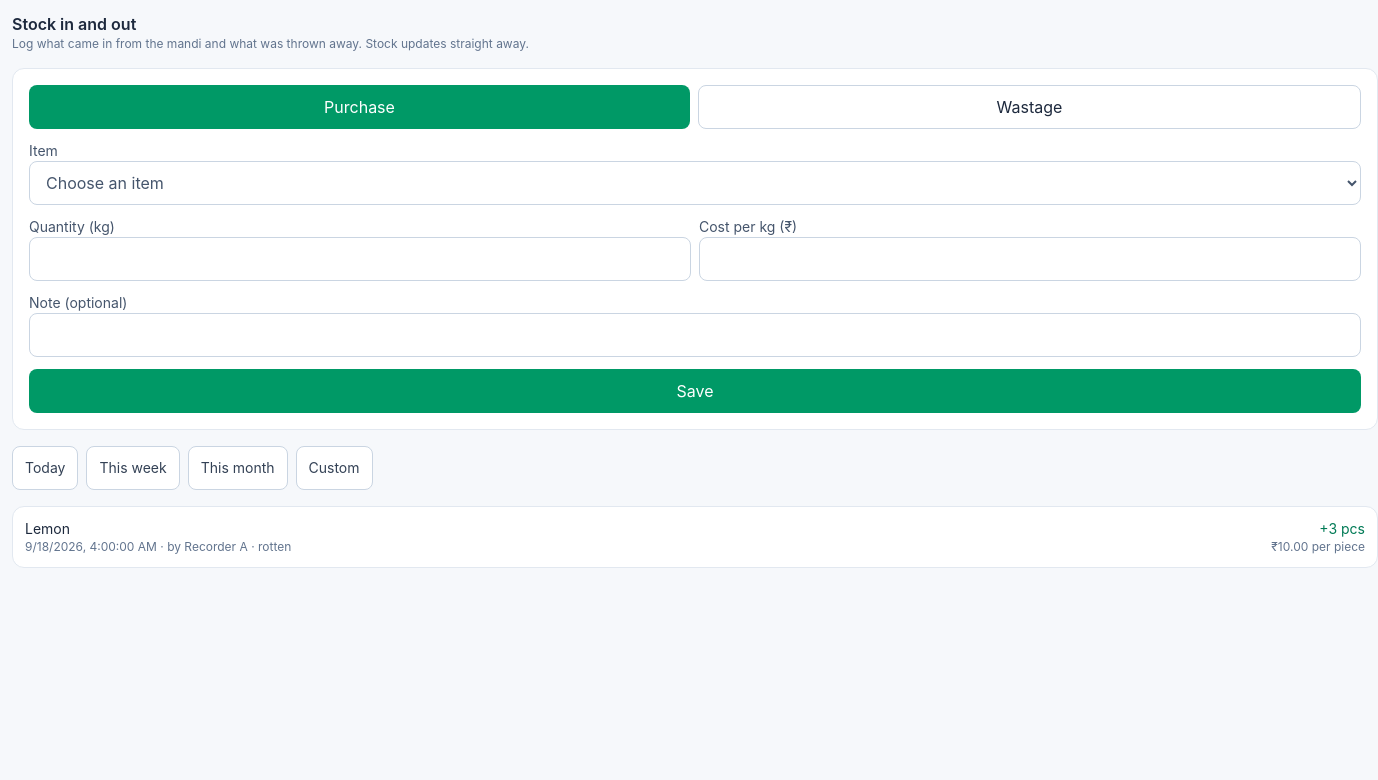
Test: the stock screen › labels the quantity and cost fields with the chosen item's unit
The width and height of the screenshot is (1378, 780).
Check: the list item with test id "stock-row-m1" is shown, box [12,506,1377,568]
Check: the text "Quantity (kg)" is shown, box [29,217,691,281]
Select "Lemon (7 pcs)" in the dropdown with test id "stock-item" at [695, 183], box [29,161,1361,205]
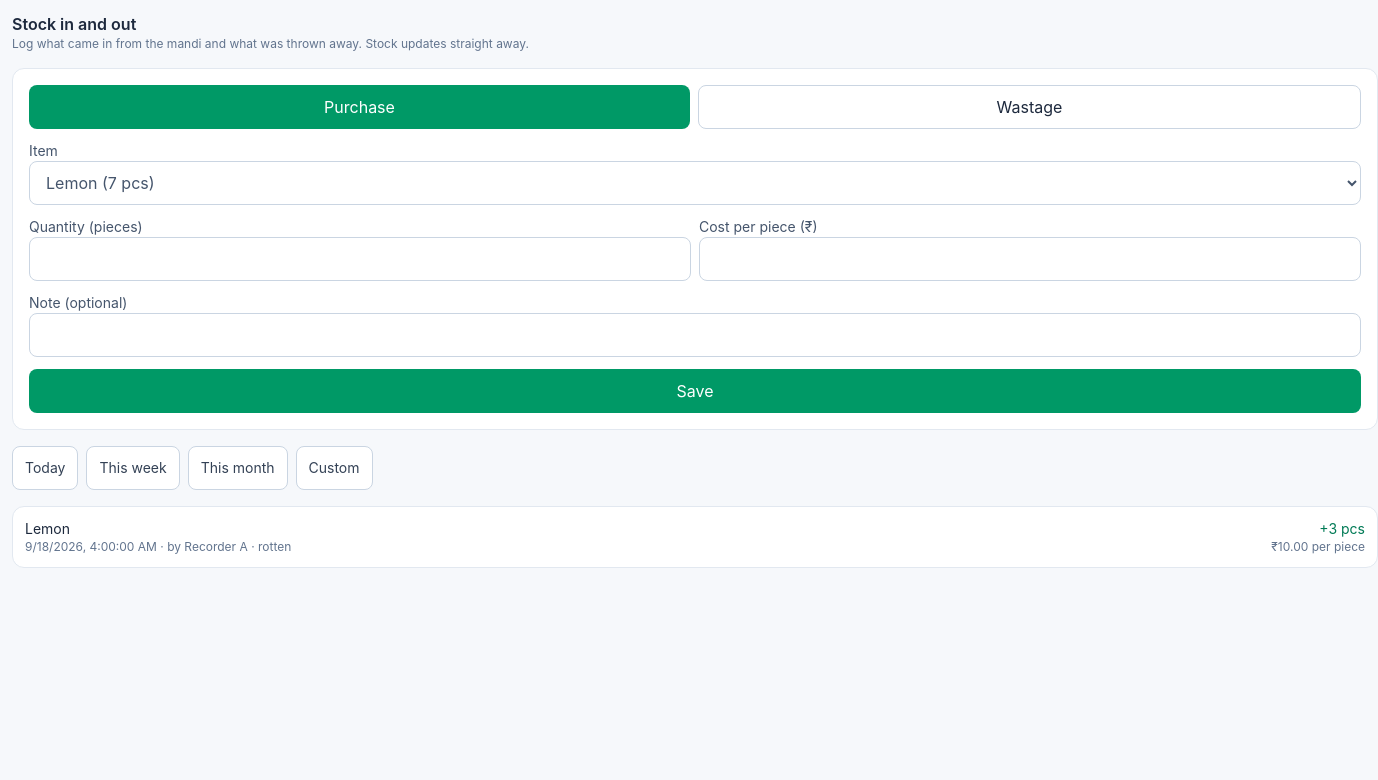
Check: the text "Quantity (pieces)" is shown, box [29,217,691,281]
Check: the text "Cost per piece (₹)" is shown, box [699,217,1361,281]
